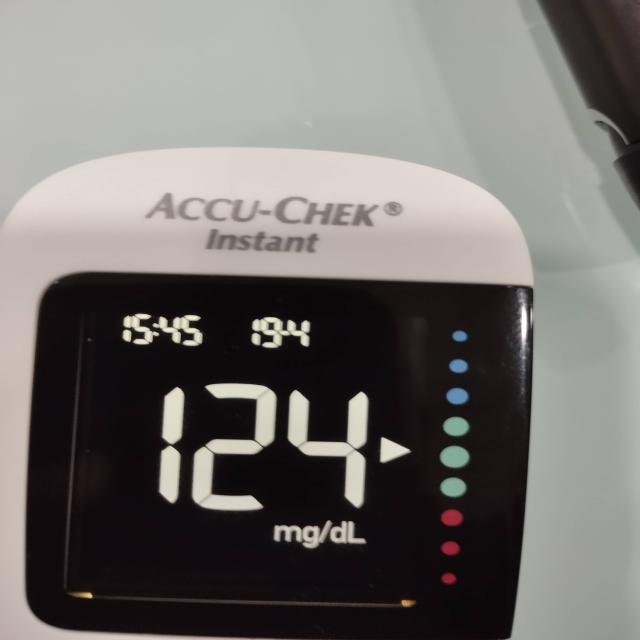gluco: (0, 147, 536, 640)
